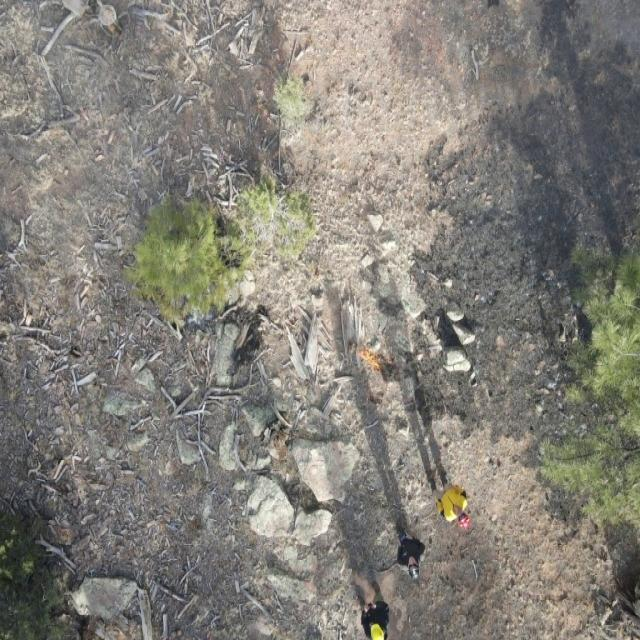fire: (354, 342, 394, 378)
smoke: (28, 30, 192, 231), (578, 0, 639, 49)
